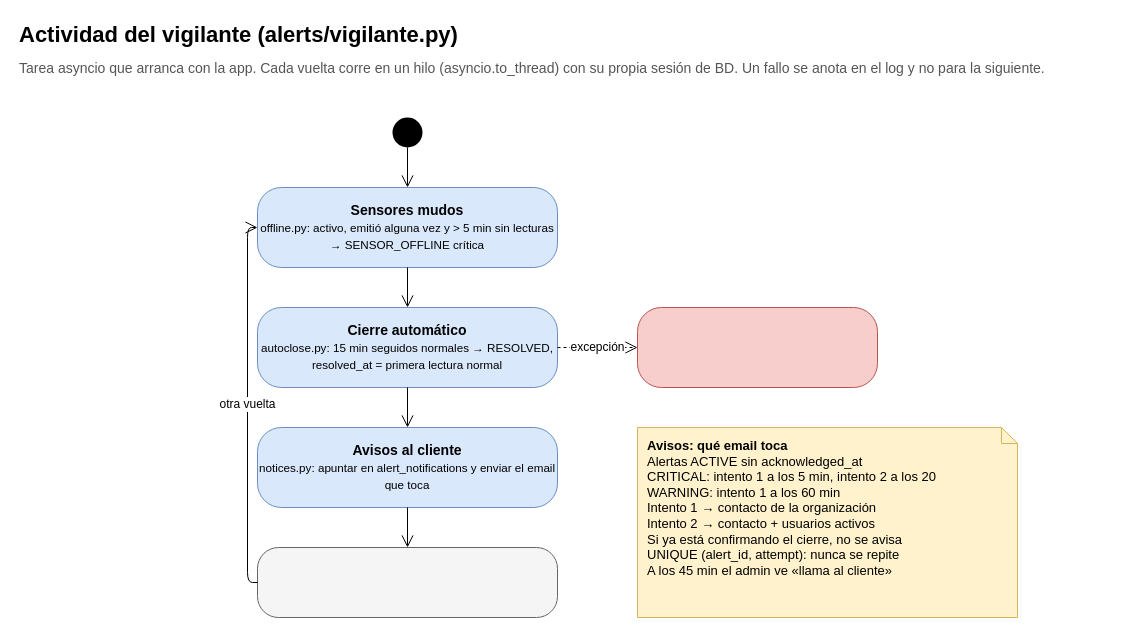
Image size: 1134x635. Some labels were removed from this diagram. Each missing label, with the centre of its shape:
Esperar asyncio.sleep(COMPROBAR_CADA = 1 min): (x=407, y=582)
Fallo en una vuelta logger.exception y se sigue: (x=757, y=347)
